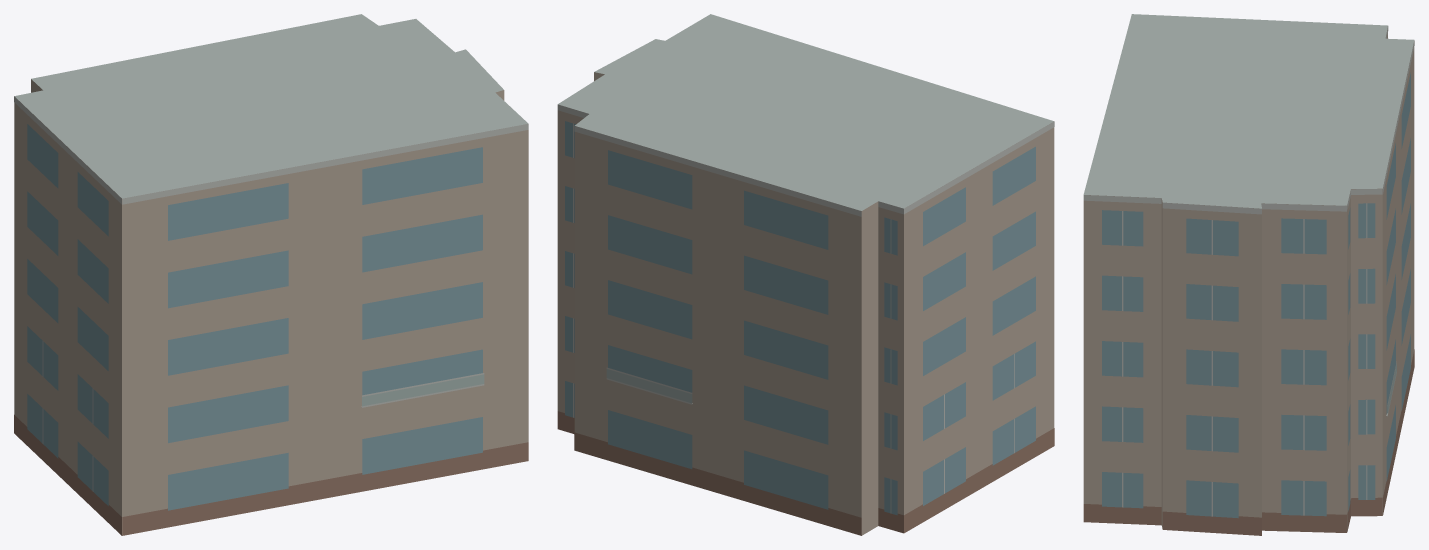
The model's file is survey-upis-32894894.glb.
3 views of the same model, side by side, from view 1: azimuth 30°, elevation 25°; view 2: azimuth 150°, elevation 25°; view 3: azimuth 270°, elevation 25° (orthographic). The views are drawn at different scales.
Parts seen in each view (by area): view 1: survey-upis-32894894.tmp; view 2: survey-upis-32894894.tmp; view 3: survey-upis-32894894.tmp.
Boxes of the visible parts, bbox=[...] form: survey-upis-32894894.tmp: bbox=[14, 14, 528, 535]; survey-upis-32894894.tmp: bbox=[557, 14, 1054, 535]; survey-upis-32894894.tmp: bbox=[1083, 14, 1414, 535].
Size of the model in its own units: 17.35 by 13.6 by 12.48.
